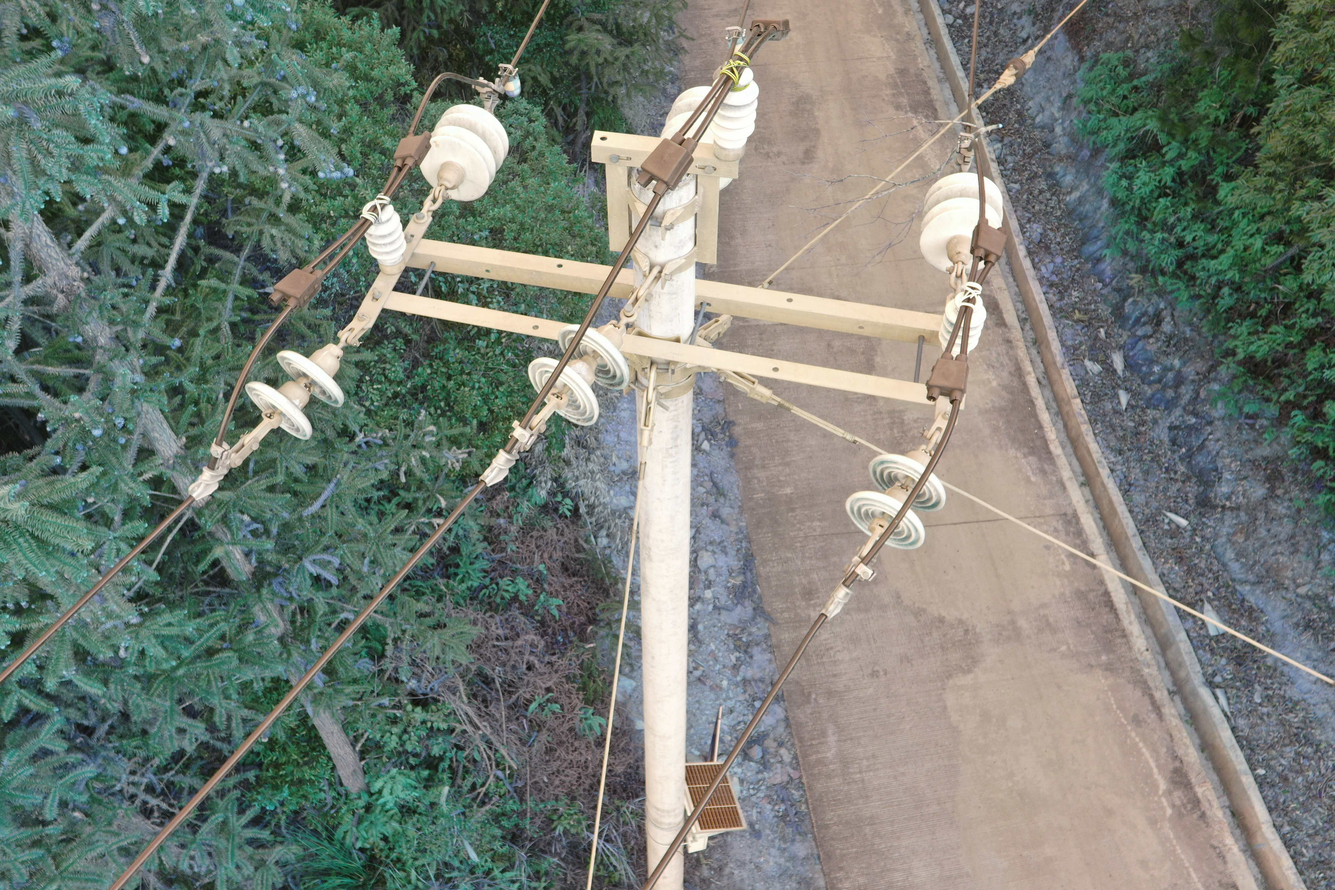severe_soiling_no_discharge_whole: (526, 313, 631, 430)
